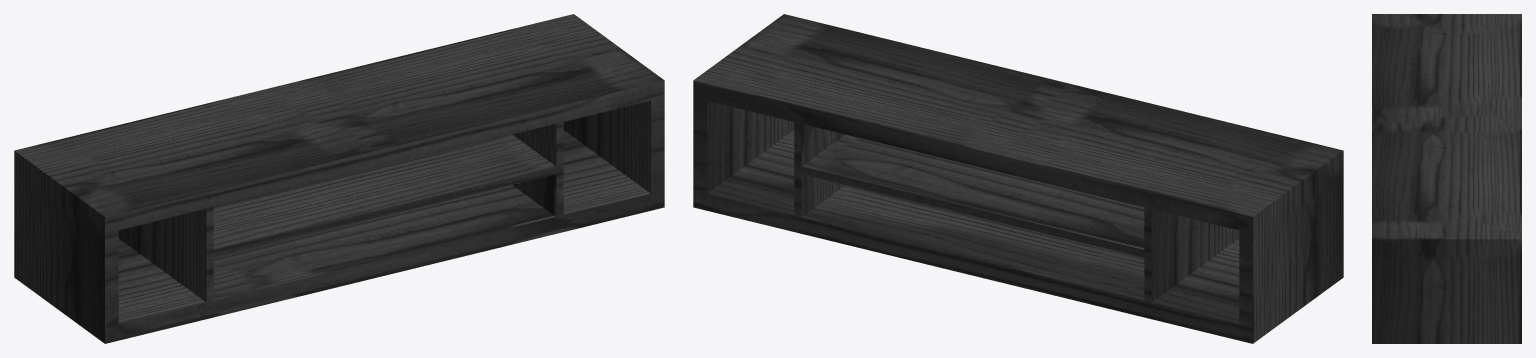
File: Nice TV Stand.FBX
3 renders of one model, left to right at view 1: azimuth 30°, elevation 25°; view 2: azimuth 150°, elevation 25°; view 3: azimuth 270°, elevation 25°, orthographic. The views are drawn at different scales.
Parts seen in each view (by area): view 1: TV Stand001; view 2: TV Stand001; view 3: TV Stand001.
Boxes of the visible parts, <box> form: TV Stand001: <box>14,14,664,343</box>; TV Stand001: <box>693,14,1343,343</box>; TV Stand001: <box>1372,14,1521,343</box>.
Bounding box in the file's own units: 134 × 29.06 × 37.69.
Materials: 1 (1 with a texture image).
